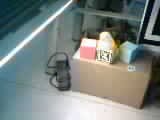duck: (92, 16, 127, 54)
